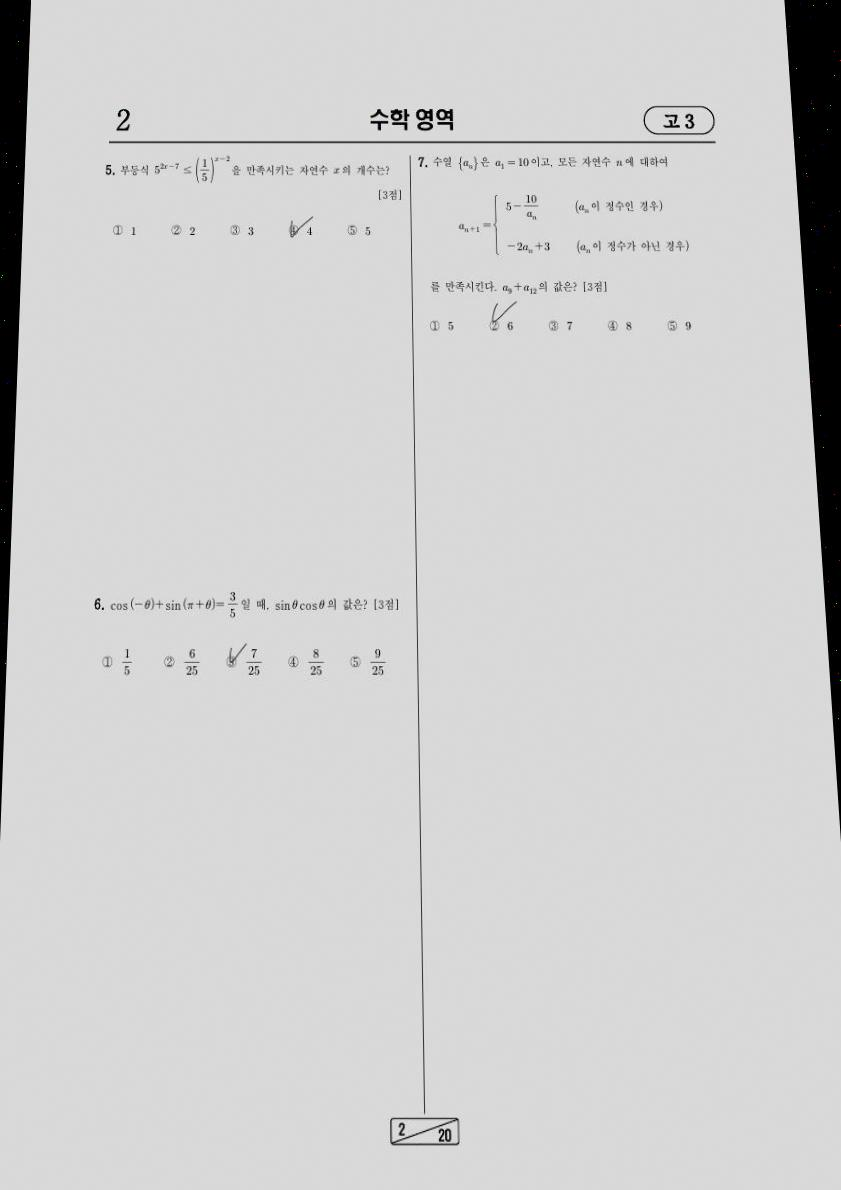question: (409, 147, 711, 351), (90, 151, 406, 261), (81, 586, 413, 689)
